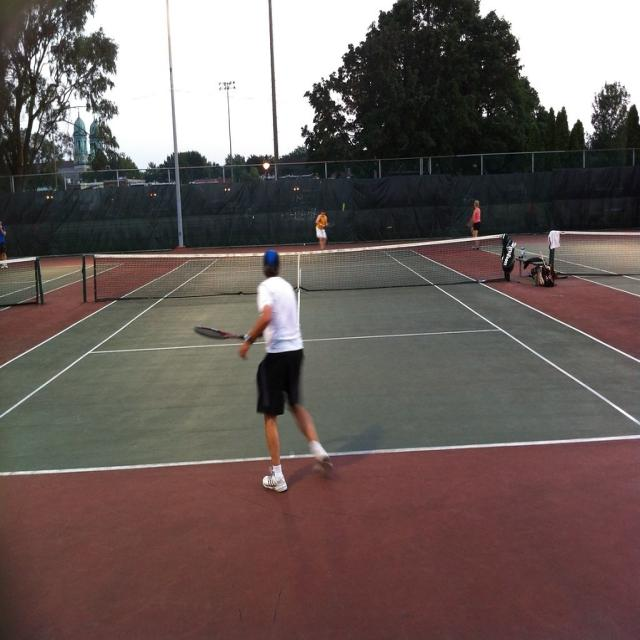ball: (342, 202, 346, 208)
